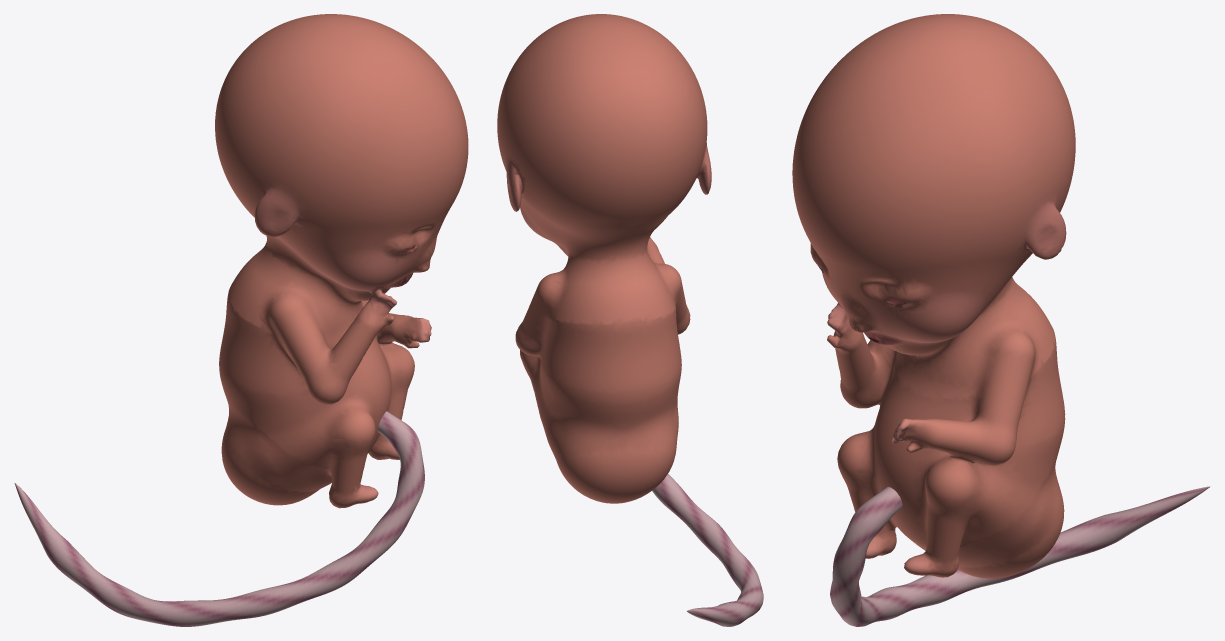
File: week_16.glb
3 views of the same model, side by side, from view 1: azimuth 30°, elevation 25°; view 2: azimuth 150°, elevation 25°; view 3: azimuth 270°, elevation 25° (orthographic). The views are drawn at different scales.
Visible parts, largest first — view 1: skin, cord; view 2: skin, cord; view 3: skin, cord.
Part boxes in pixels (x1,y1,x2,y2): skin: [215, 14, 468, 508]; cord: [14, 411, 424, 626]; skin: [497, 14, 711, 503]; cord: [652, 474, 763, 626]; skin: [792, 14, 1075, 578]; cord: [830, 486, 1210, 626].
Bounding box in the file's own units: 1.78 × 2.98 × 1.71.
